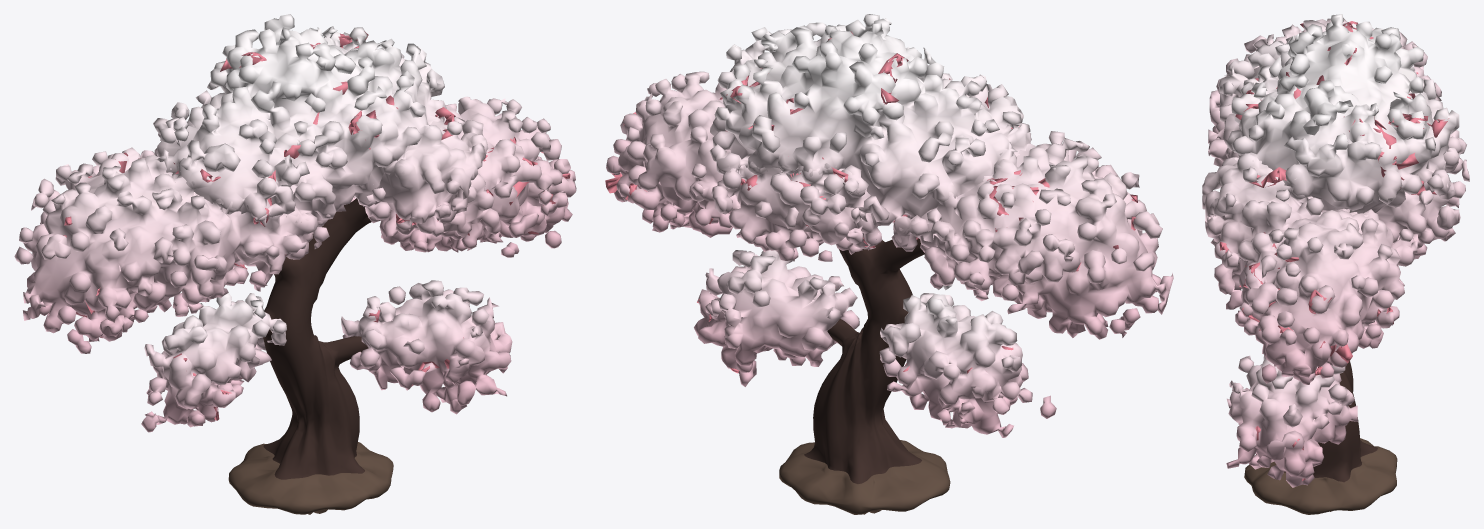
File: sakura_roblox.glb
3 renders of one model, left to right at view 1: azimuth 30°, elevation 25°; view 2: azimuth 150°, elevation 25°; view 3: azimuth 270°, elevation 25°, orthographic. The views are drawn at different scales.
Parts seen in each view (by area): view 1: Sakura_CanopyCrown, Sakura_CanopyWest, Sakura_CanopyLow, Sakura_CanopyEast, Sakura_Trunk, Sakura_RootMound, Sakura_SpecklesHigh; view 2: Sakura_CanopyCrown, Sakura_CanopyWest, Sakura_CanopyLow, Sakura_Trunk, Sakura_CanopyEast, Sakura_CanopyBack, Sakura_RootMound, Sakura_SpecklesHigh; view 3: Sakura_CanopyCrown, Sakura_CanopyEast, Sakura_CanopyLow, Sakura_RootMound, Sakura_CanopyBack, Sakura_SpecklesHigh, Sakura_CanopyWest, Sakura_Trunk.
Boxes of the visible parts, x1,y1,x2,y2 form: Sakura_CanopyCrown: (153, 14, 446, 240); Sakura_CanopyWest: (14, 147, 330, 353); Sakura_CanopyLow: (141, 280, 512, 432); Sakura_CanopyEast: (344, 96, 576, 257); Sakura_Trunk: (263, 198, 371, 479); Sakura_RootMound: (228, 442, 393, 514); Sakura_SpecklesHigh: (63, 31, 570, 337); Sakura_CanopyCrown: (709, 14, 1030, 245); Sakura_CanopyWest: (894, 131, 1173, 339); Sakura_CanopyLow: (694, 250, 1056, 437); Sakura_Trunk: (804, 238, 924, 483); Sakura_CanopyEast: (606, 71, 752, 243); Sakura_CanopyBack: (711, 161, 882, 261); Sakura_RootMound: (779, 440, 950, 514); Sakura_SpecklesHigh: (605, 31, 1137, 286); Sakura_CanopyCrown: (1218, 14, 1459, 216); Sakura_CanopyEast: (1202, 145, 1417, 384); Sakura_CanopyLow: (1226, 320, 1377, 487); Sakura_RootMound: (1244, 438, 1397, 514); Sakura_CanopyBack: (1376, 130, 1469, 259); Sakura_SpecklesHigh: (1219, 21, 1449, 375); Sakura_CanopyWest: (1208, 18, 1441, 166); Sakura_Trunk: (1283, 361, 1377, 482).
Bounding box in the file's own units: 4.17 × 3.58 × 1.79.
Materials: 4 (4 with a texture image).
